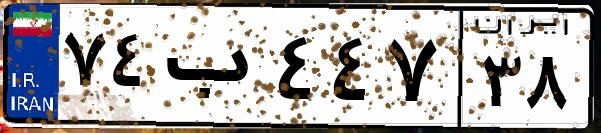3: (475, 38, 525, 113)
4: (270, 28, 330, 110), (330, 28, 385, 110), (110, 28, 158, 98)
7: (385, 28, 445, 110), (57, 26, 110, 100)
8: (525, 38, 570, 115)
ب: (158, 20, 270, 120)
